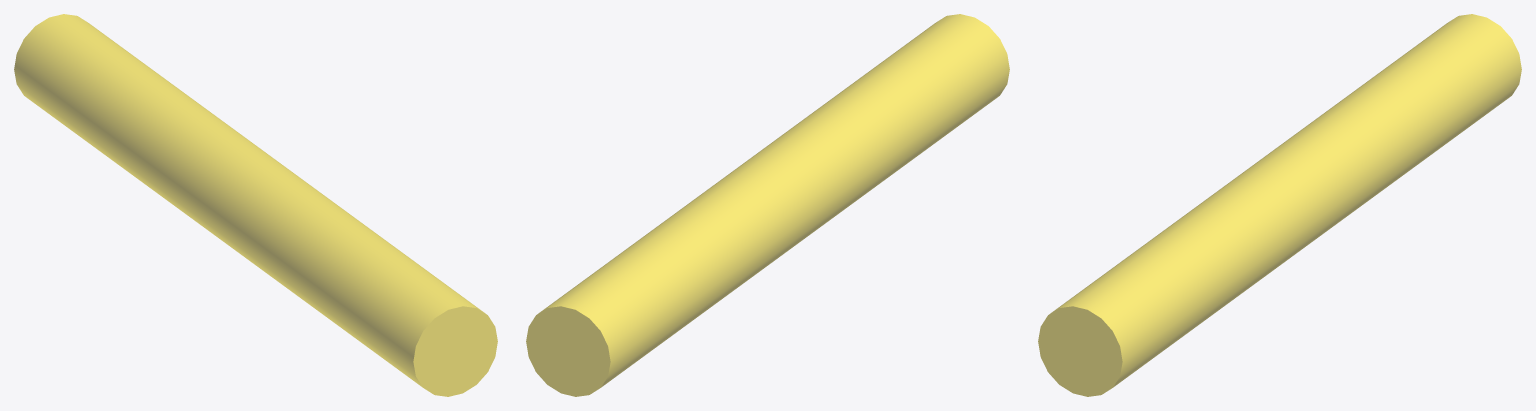
Rendered from yellow_cylinder.glb.
3 renders of one model, left to right at view 1: azimuth 30°, elevation 25°; view 2: azimuth 150°, elevation 25°; view 3: azimuth 330°, elevation 25°, orthographic.
Visible parts, largest first — view 1: yellow cylinder; view 2: yellow cylinder; view 3: yellow cylinder.
Boxes of the visible parts, box(x1,y1,x2,y2) form: yellow cylinder: box(14, 14, 497, 396); yellow cylinder: box(526, 14, 1009, 396); yellow cylinder: box(1038, 14, 1521, 396).
Size of the model in its own units: 0.1767 by 0.174 by 1.44.
